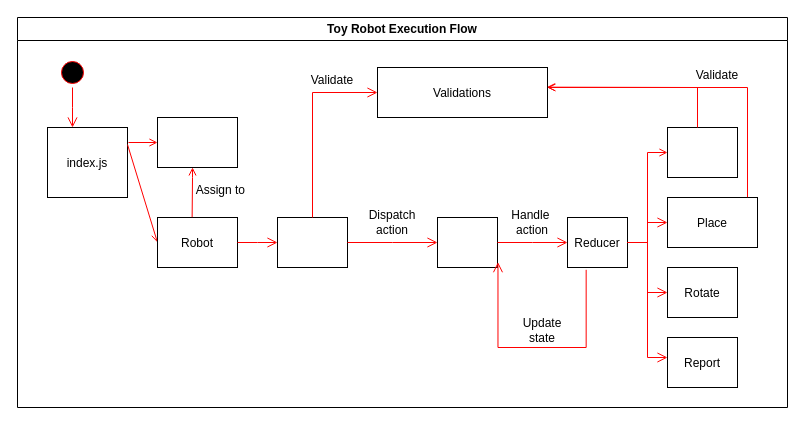
Some shapes in this 805 by 425 pixel diagram are drawn without their labels. Here are the shapes that lost their labels. From the top down, the centre of each, then its label:
At point (197, 142): "Table".
At point (702, 152): "Move".
At point (312, 242): "Parser".
At point (467, 242): "Store".
